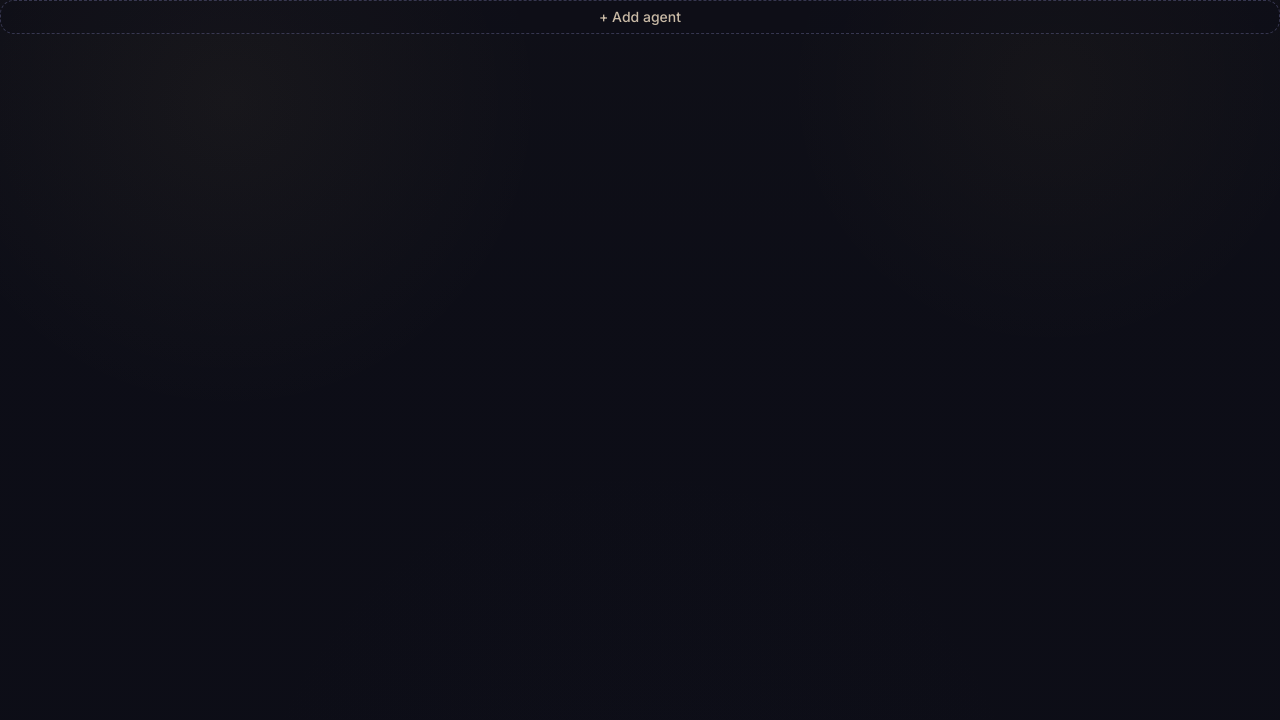
Test case: AddAgentPopover › shows duplicate indicator for already assigned agents
Click the button "+ Add agent": point(640, 17) [0, 0, 1279, 34]
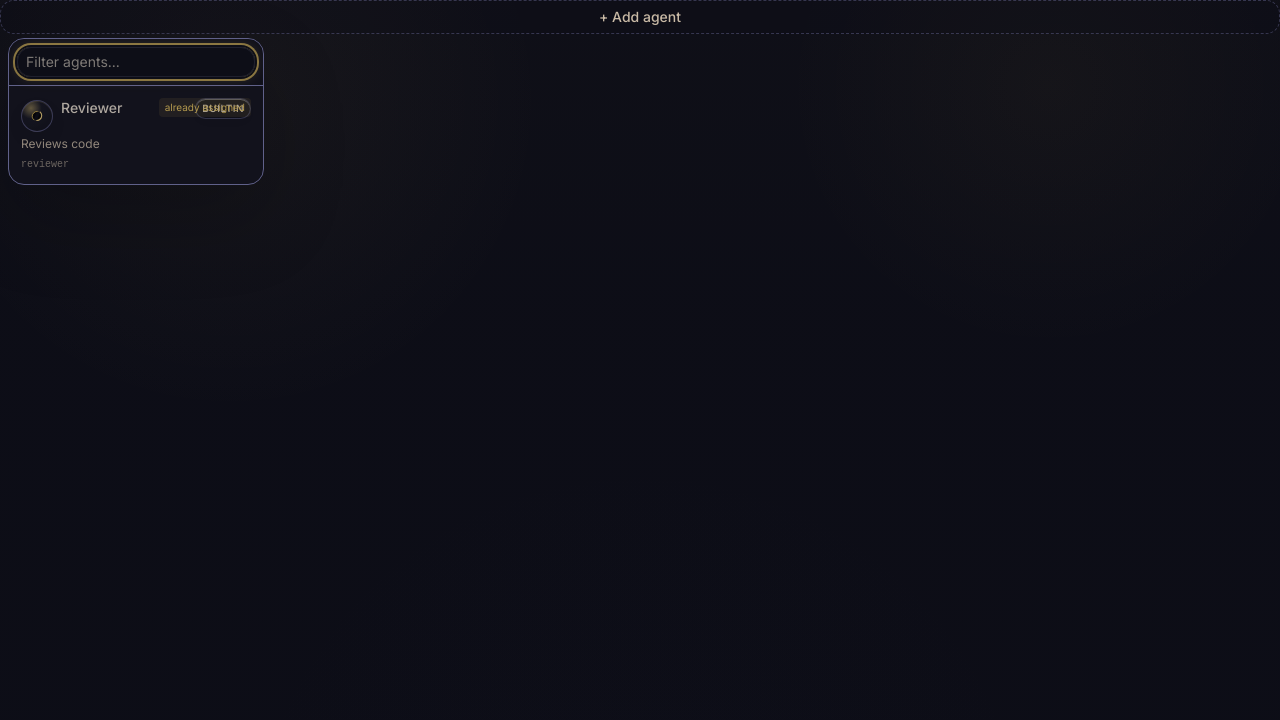
Expected: the text "already assigned" is shown, [159, 98, 251, 117]
